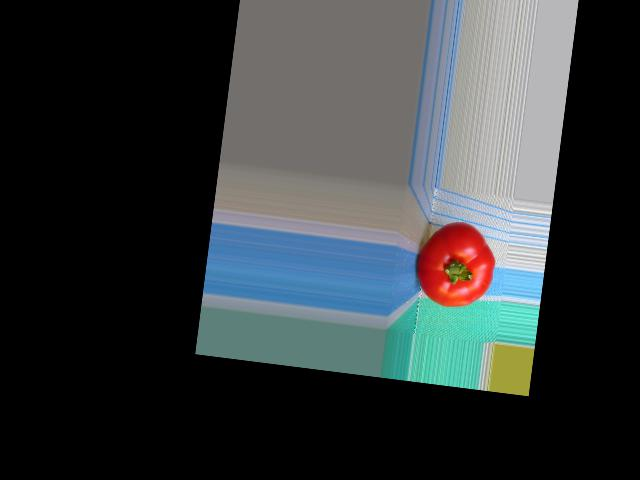tomato: (411, 218, 499, 312)
